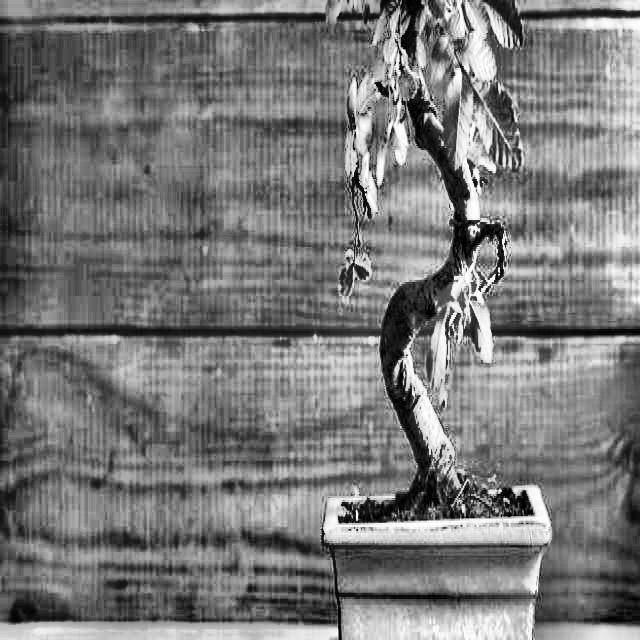plants: (304, 0, 578, 638)
